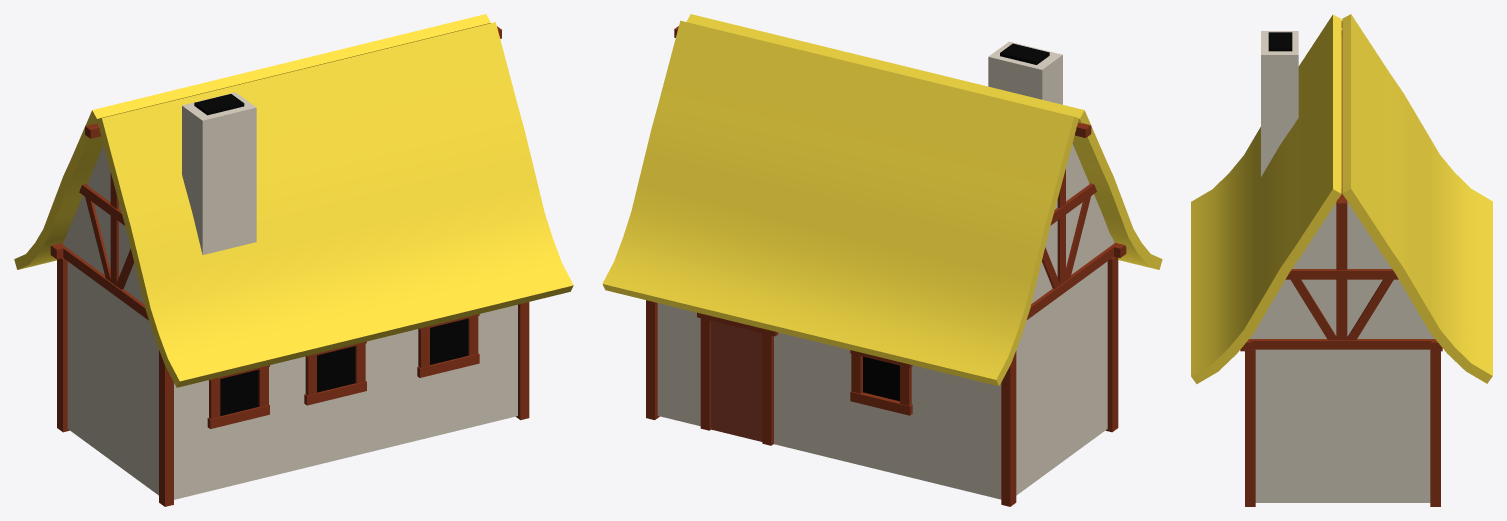
File: jumper_house01.FBX
3 renders of one model, left to right at view 1: azimuth 30°, elevation 25°; view 2: azimuth 150°, elevation 25°; view 3: azimuth 270°, elevation 25°, orthographic. The views are drawn at different scales.
Visible parts, largest first — view 1: Box002, Box001, Box022, Box003, Pyramid002, Box012, Box011, Box033, Box038, Box043, Box010, Box008 (+5 smaller); view 2: Box003, Box001, Box002, Box024, Pyramid002, Box022, Box011, Box012, Box009, Box032, Box026, Box025 (+4 smaller); view 3: Box003, Box001, Box002, Pyramid001, Box022, Box007, Box010, Box009, Box013, Box016, Box021, Box020 (+2 smaller).
Boxes of the visible parts, box(x1,y1,x2,y2) form: Box002: box(97, 22, 573, 387); Box001: box(67, 261, 517, 499); Box022: box(182, 92, 256, 254); Box003: box(14, 14, 490, 269); Pyramid002: box(62, 145, 144, 303); Box012: box(159, 350, 173, 506); Box011: box(57, 258, 69, 432); Box033: box(220, 369, 258, 416); Box038: box(317, 346, 355, 392); Box043: box(430, 318, 468, 364); Box010: box(516, 302, 529, 420); Box008: box(63, 247, 148, 320); Box003: box(602, 20, 1078, 385); Box001: box(657, 261, 1107, 499); Box002: box(686, 14, 1162, 269); Box024: box(711, 321, 762, 441); Pyramid002: box(1031, 144, 1114, 303); Box022: box(988, 41, 1062, 104); Box011: box(1001, 351, 1016, 506); Box012: box(1105, 257, 1118, 432); Box009: box(646, 300, 659, 419); Box032: box(863, 356, 899, 401); Box026: box(762, 333, 773, 445); Box025: box(700, 317, 710, 430); Box003: box(1342, 14, 1492, 383); Box001: box(1255, 349, 1430, 502); Box002: box(1191, 14, 1341, 383); Pyramid001: box(1249, 202, 1434, 338); Box022: box(1261, 31, 1298, 176); Box007: box(1251, 339, 1431, 349); Box010: box(1245, 349, 1255, 506); Box009: box(1430, 349, 1440, 506); Box013: box(1336, 184, 1347, 340); Box016: box(1285, 269, 1398, 279); Box021: box(1346, 279, 1393, 340); Box020: box(1291, 279, 1337, 340).
Bounding box in the file's own units: 185 × 160 × 130.
